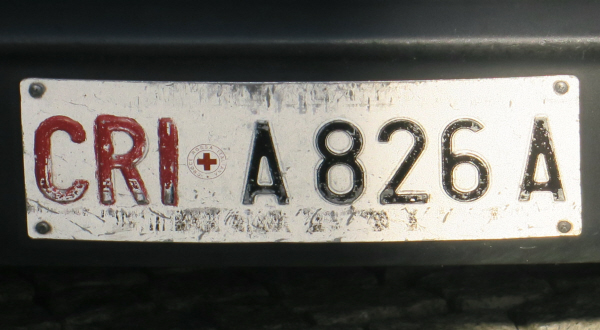license_plate: (17, 75, 584, 242)
